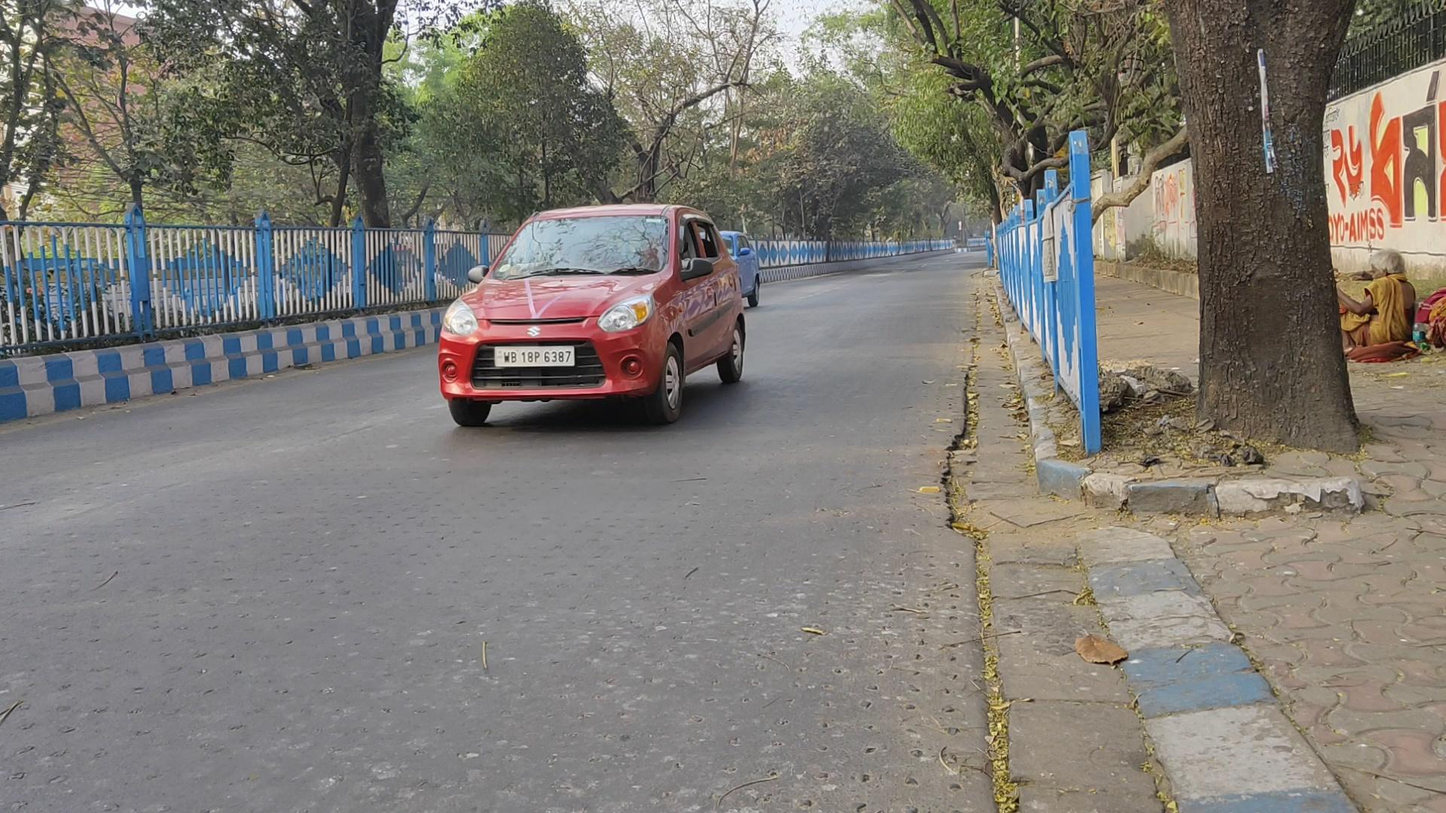car: (437, 201, 746, 428), (1335, 249, 1415, 358), (686, 230, 761, 309)
